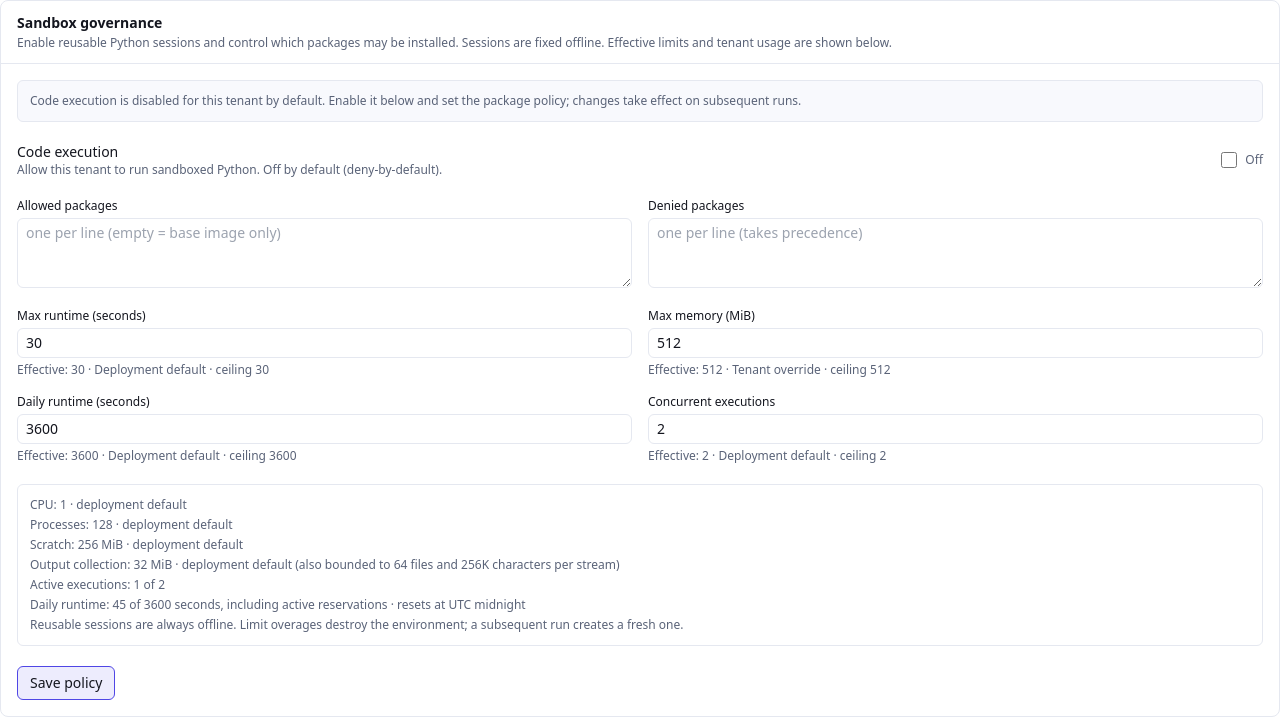
Test: SandboxGovernancePanel › surfaces a 422 package-policy write error as an actionable alert (INV-8)
Expected: the switch named "enable code execution" is shown, [1221, 152, 1237, 168]
Step 1. Click the button "Save policy" → (66, 683), box [17, 666, 115, 700]
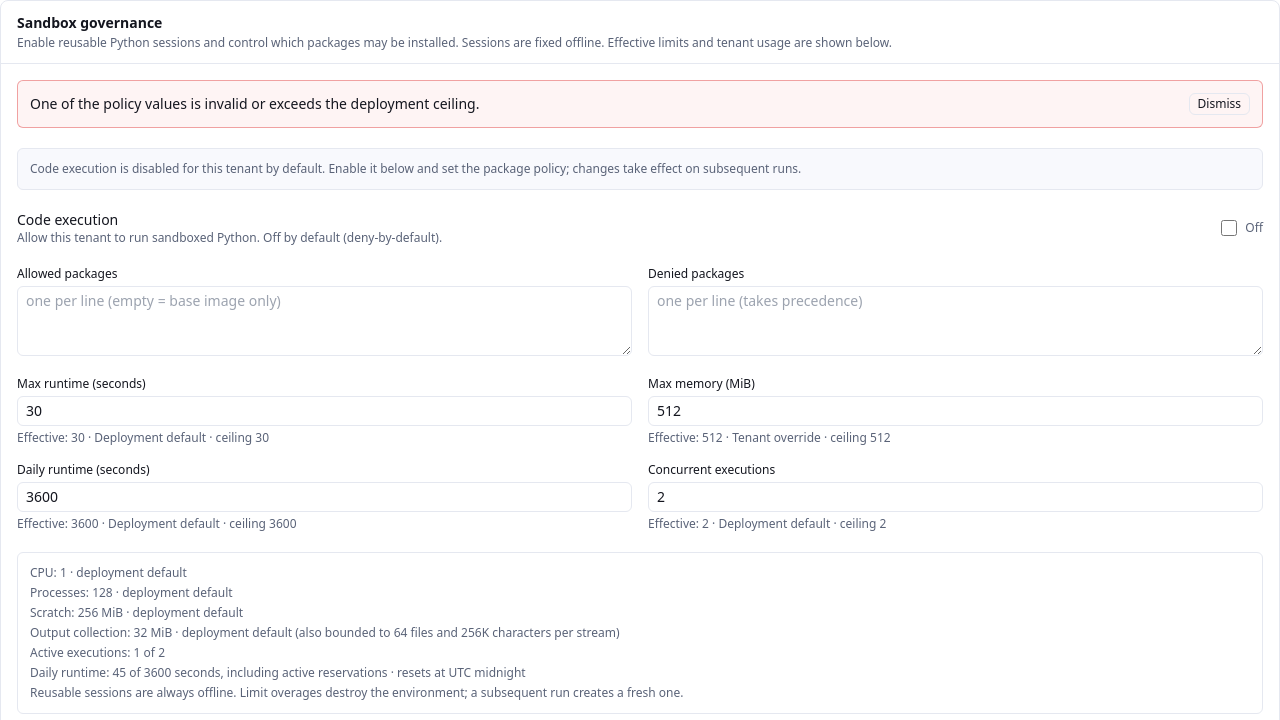
Now the text "policy value" is shown, box [30, 94, 479, 113]
